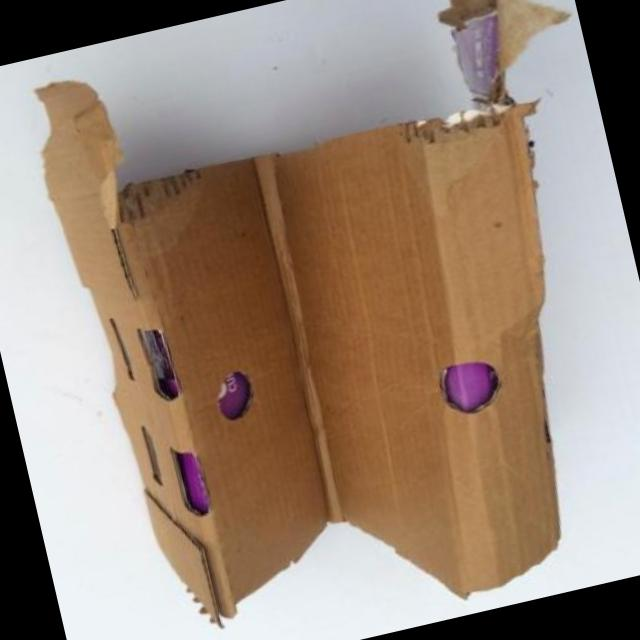cardboard paper: (35, 85, 556, 627), (438, 363, 497, 415)
